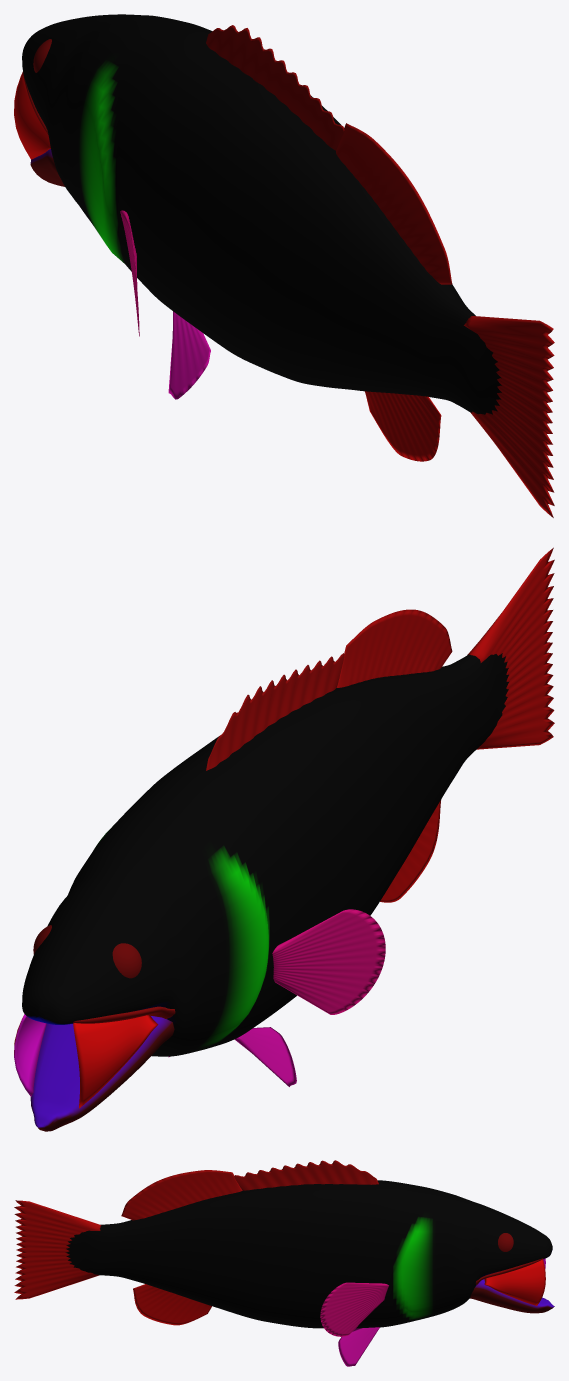
Rendered from grouper.glb.
3 renders of one model, top to bottom at view 1: azimuth 30°, elevation 25°; view 2: azimuth 150°, elevation 25°; view 3: azimuth 270°, elevation 25°, orthographic. The views are drawn at different scales.
Visible parts, largest first — view 1: grouper; view 2: grouper; view 3: grouper.
Boxes of the visible parts, x1,y1,x2,y2 form: grouper: (14,14,554,517); grouper: (14,547,554,1131); grouper: (14,1160,554,1366).
Bounding box in the file's own units: 0.3304 × 0.4664 × 1.2.
